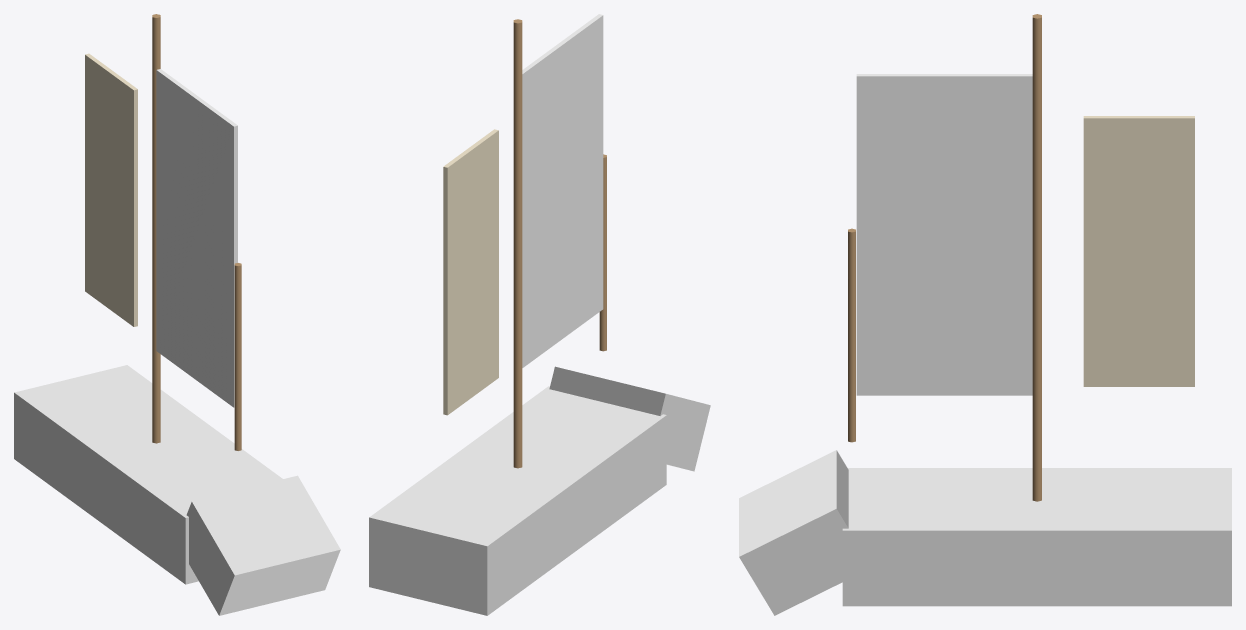
Rendered from veleiro.glb.
3 renders of one model, left to right at view 1: azimuth 30°, elevation 25°; view 2: azimuth 150°, elevation 25°; view 3: azimuth 270°, elevation 25°, orthographic. The views are drawn at different scales.
Parts seen in each view (by area): view 1: root; view 2: root; view 3: root.
Part boxes in pixels (x1,y1,x2,y2): root: [14, 14, 340, 615]; root: [369, 14, 710, 615]; root: [739, 14, 1231, 615].
Size of the model in its own units: 1.6 by 6.79 by 5.32.
